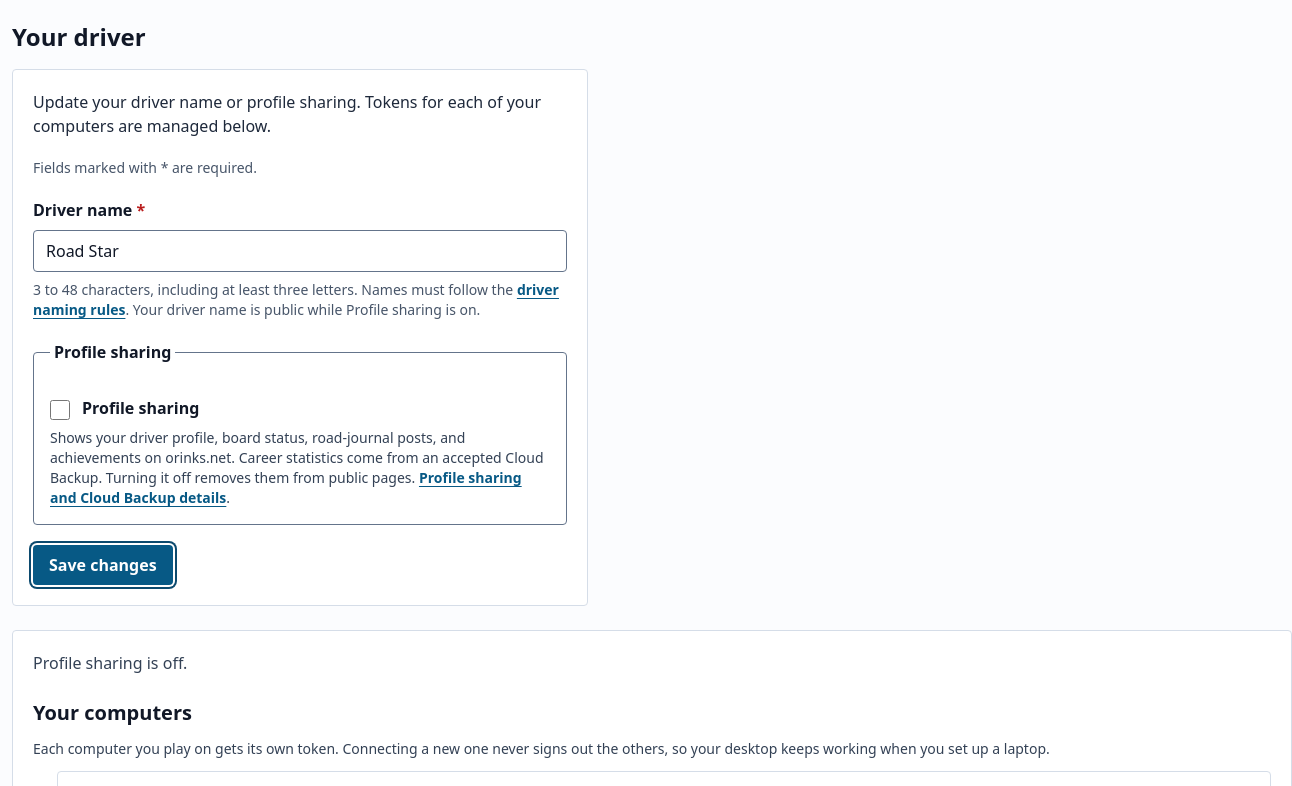
it: sign out all is disabled during save without moving focus
Click the button "Save changes".
click(103, 565)  # box [33,545,173,585]
(page scrolled)
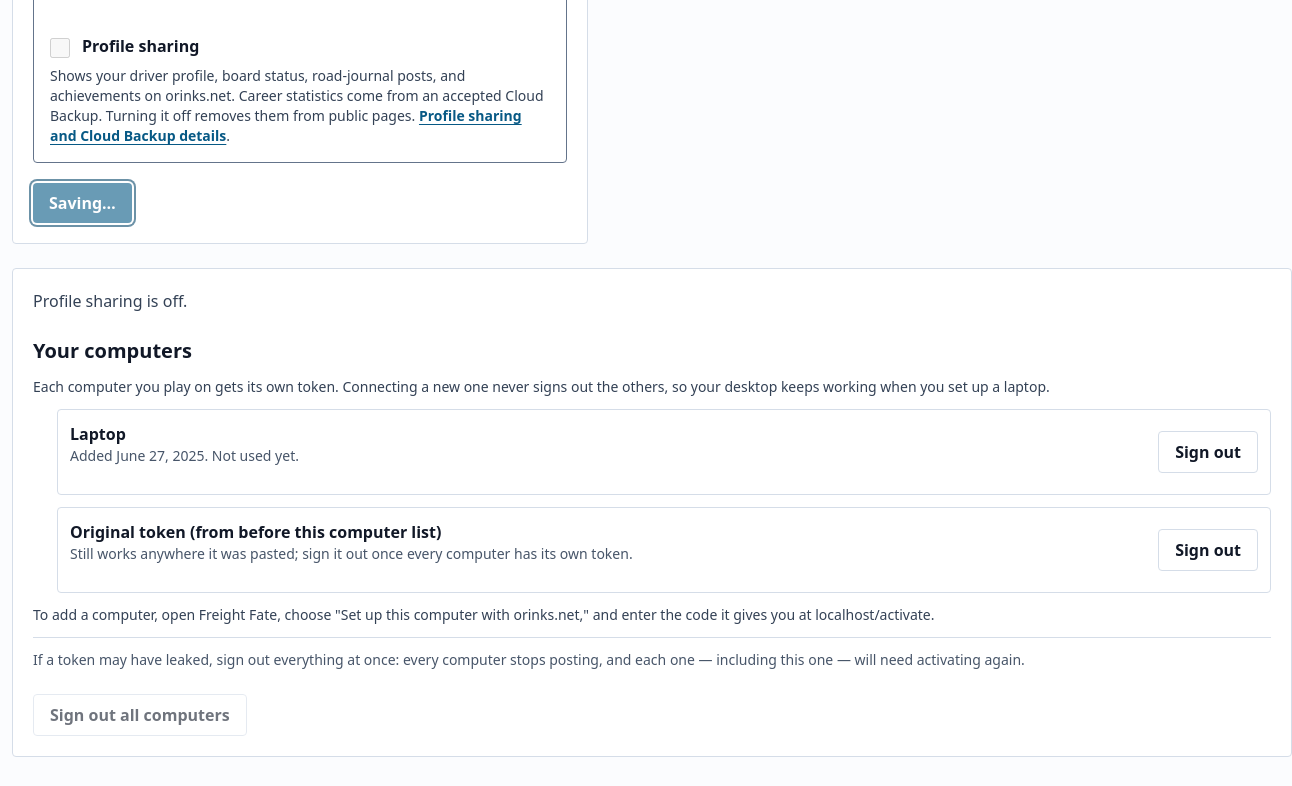
Now the button "Sign out all computers" is disabled
Click the button "Sign out all computers".
click(140, 715)  # box [33,694,247,736]
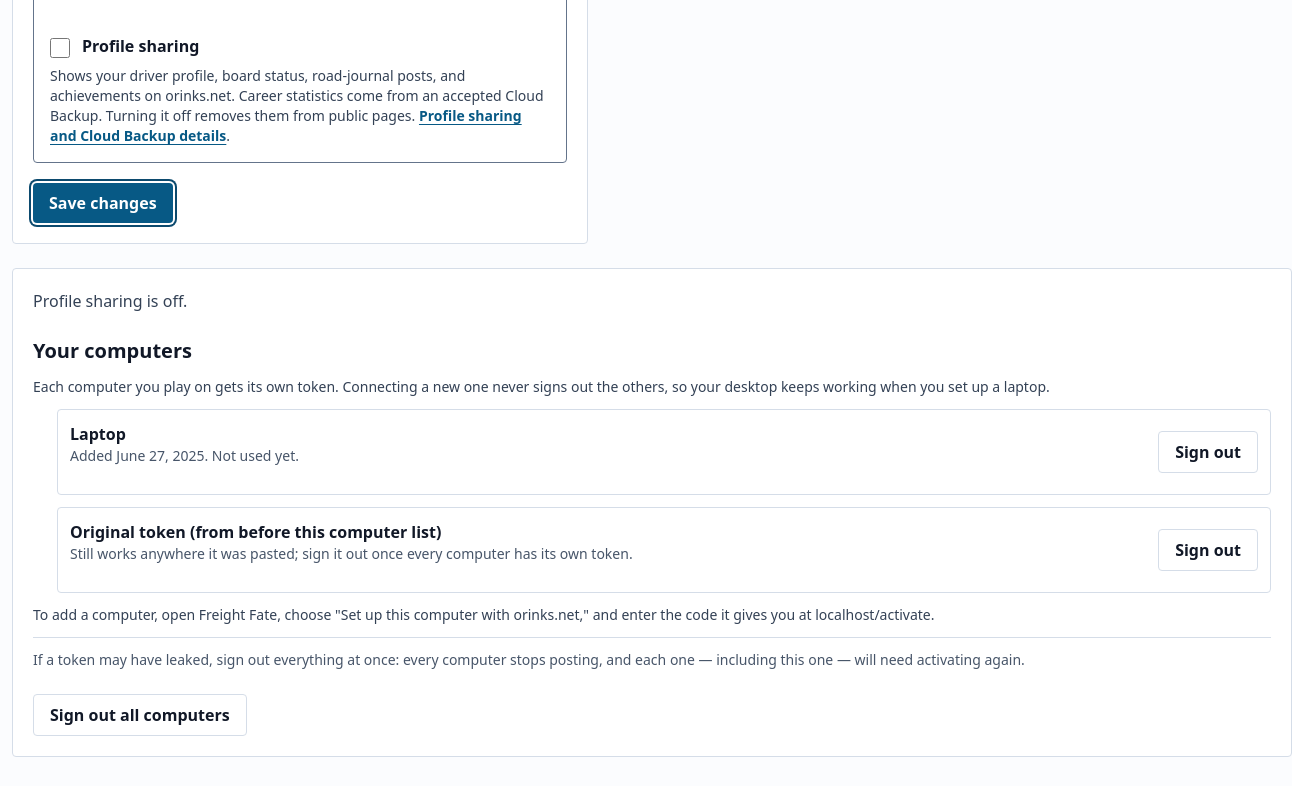
Now the button "Sign out all computers" is enabled, box [33,694,247,736]
